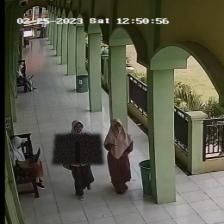Cadar_Niqab: (52, 118, 103, 164)
